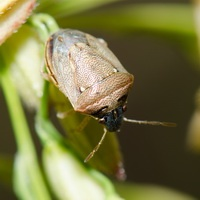insect: (45, 29, 133, 131)
